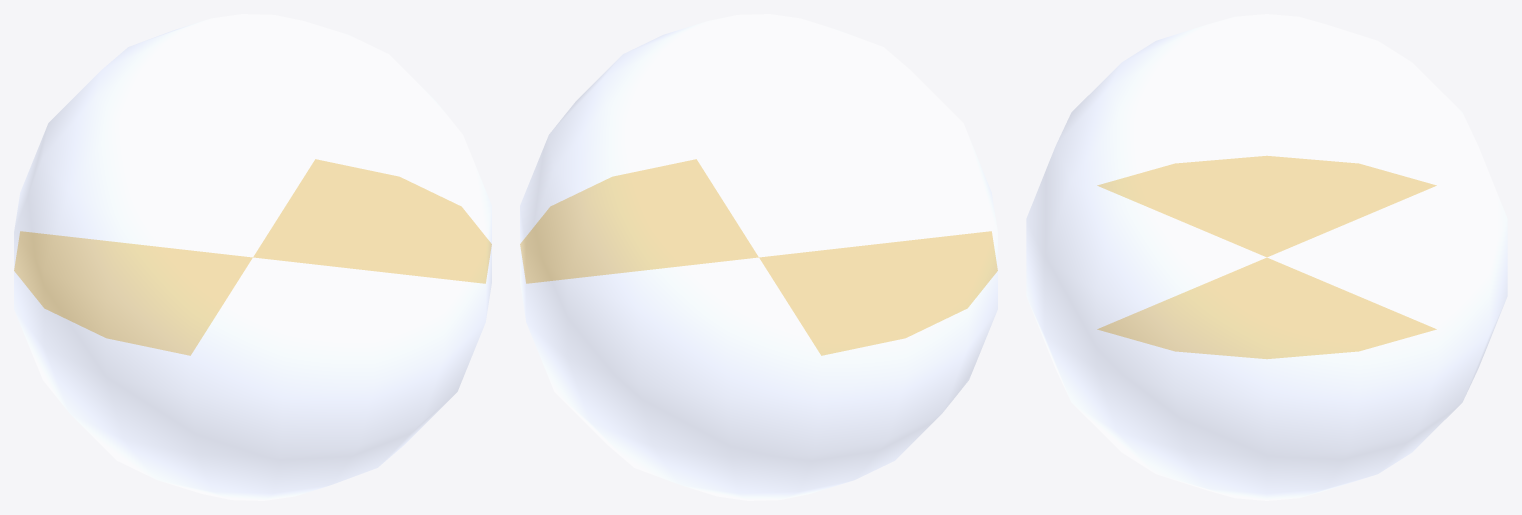
The model's file is marble-center-butterfly-high.glb.
The picture shows the model from 3 angles, left to right: view 1: azimuth 30°, elevation 25°; view 2: azimuth 150°, elevation 25°; view 3: azimuth 270°, elevation 25°; orthographic projection.
Visible parts, largest first — view 1: (%ignore), marble-center-butterfly-high; view 2: (%ignore), marble-center-butterfly-high; view 3: (%ignore), marble-center-butterfly-high.
Part boxes in pixels (left/top/right/bottom): (%ignore): left=14, top=14, right=491, bottom=500; marble-center-butterfly-high: left=14, top=159, right=491, bottom=355; (%ignore): left=520, top=14, right=997, bottom=500; marble-center-butterfly-high: left=520, top=159, right=997, bottom=355; (%ignore): left=1026, top=14, right=1507, bottom=500; marble-center-butterfly-high: left=1097, top=156, right=1436, bottom=358.
Size of the model in its own units: 0.3939 by 0.4 by 0.3939.
